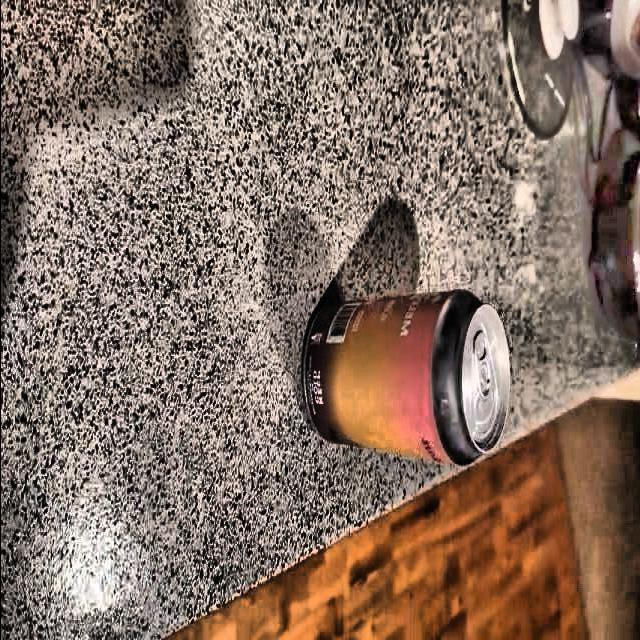litter: (300, 281, 514, 473)
